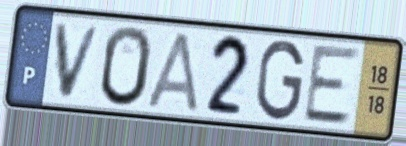2: (202, 32, 253, 121)
A: (144, 29, 201, 115)
E: (300, 44, 364, 127)
G: (254, 37, 307, 124)
O: (99, 23, 155, 110)
V: (53, 21, 105, 102)
